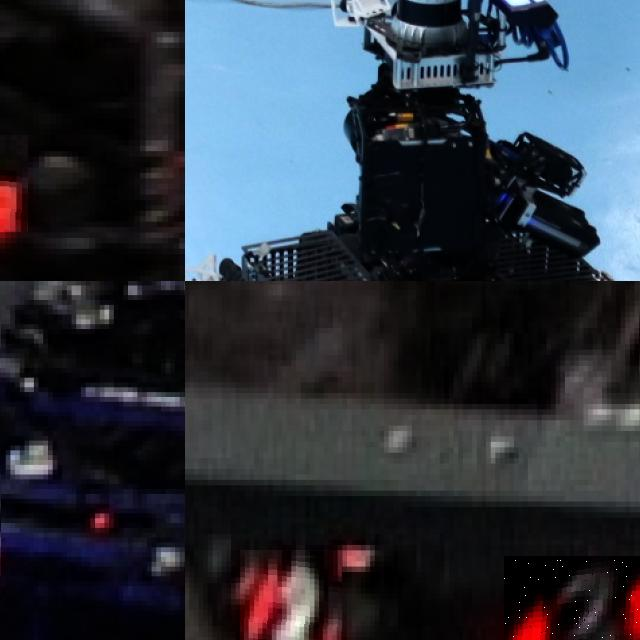R2: (0, 134, 27, 232)
R3: (504, 555, 640, 640), (240, 550, 342, 640)
